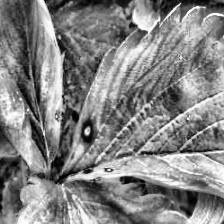Leaf Spot: (56, 3, 224, 224), (0, 0, 64, 173)
